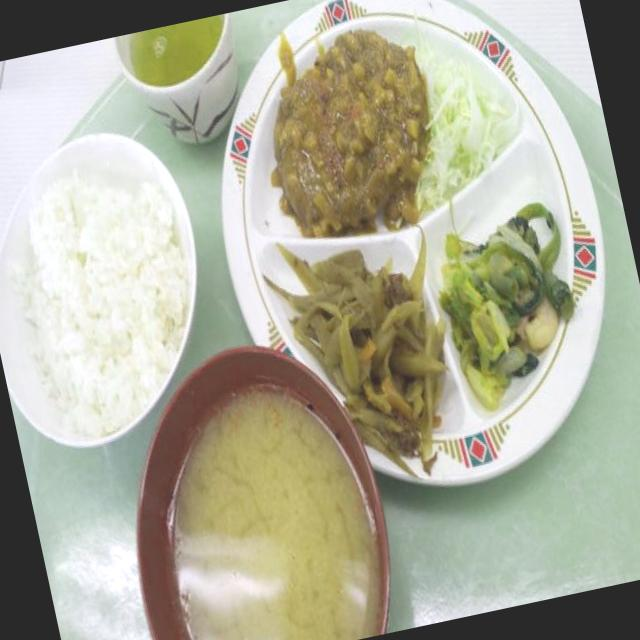Rice: (0, 141, 220, 441)
